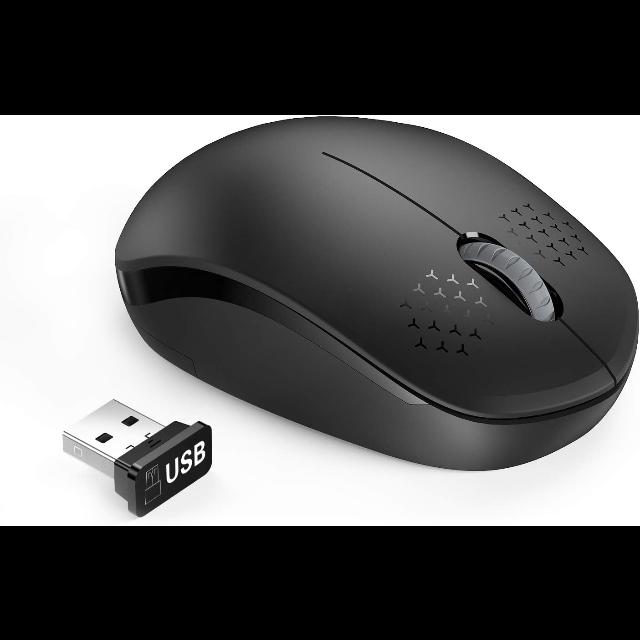Computer-Mouse: (114, 115, 640, 472)
